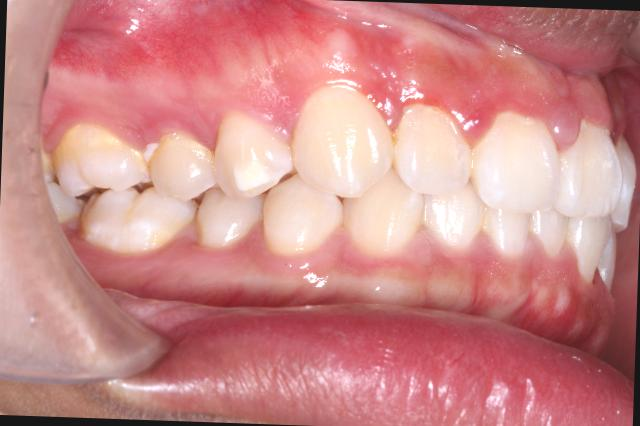canine class II 1/4: (260, 79, 426, 273)
molar class III 1/2: (50, 120, 201, 266)
